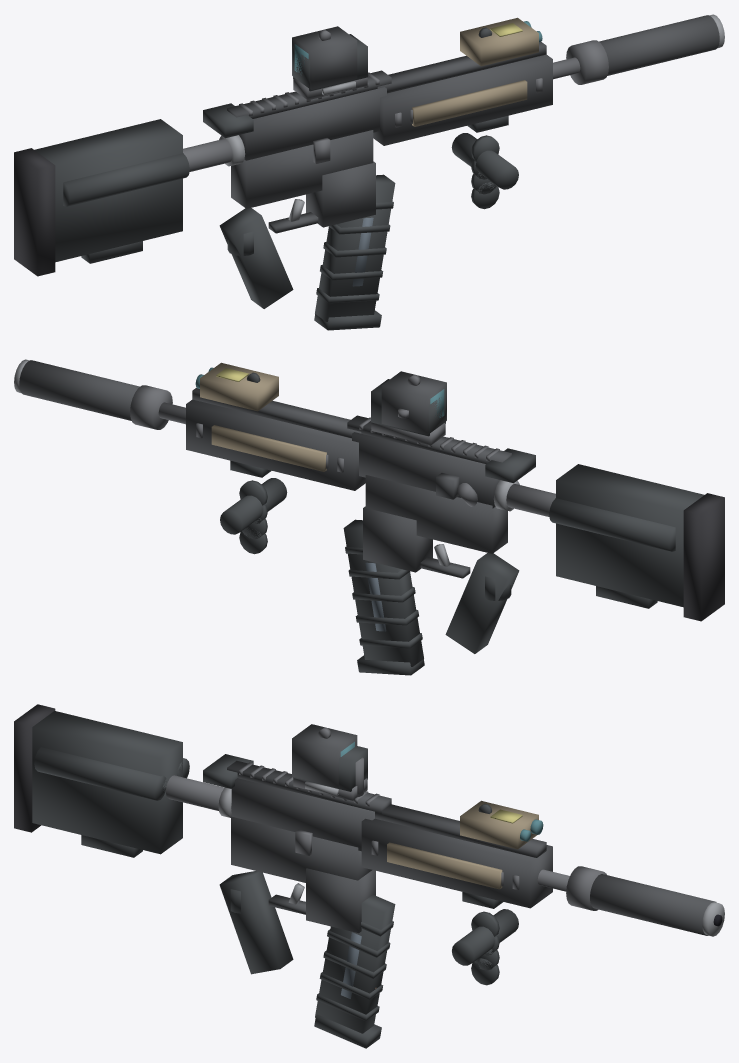
The model's file is tactical_weapon.glb.
3 renders of one model, top to bottom at view 1: azimuth 30°, elevation 25°; view 2: azimuth 150°, elevation 25°; view 3: azimuth 330°, elevation 25°, orthographic.
Visible parts, largest first — view 1: Omni3D_Character; view 2: Omni3D_Character; view 3: Omni3D_Character.
Part boxes in pixels (x1=…): Omni3D_Character: x1=14, y1=14, x2=724, y2=330; Omni3D_Character: x1=14, y1=359, x2=724, y2=675; Omni3D_Character: x1=14, y1=704, x2=724, y2=1048.
Bounding box in the file's own units: 0.985 × 0.411 × 0.11.
